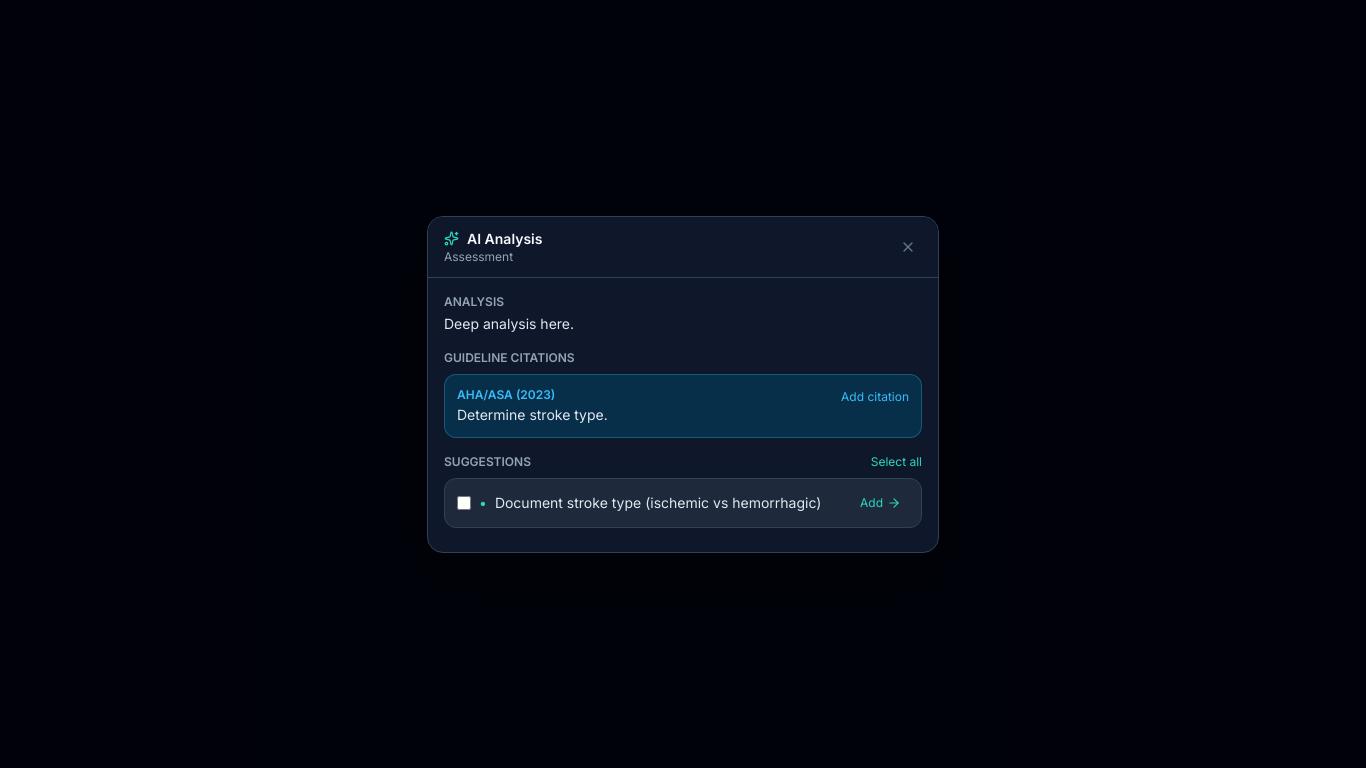
FocusedAIPanel › shows clarify overlay with question and options when ready=false
Click the button with aria-label "add to note" at (880, 502), box [852, 490, 909, 514]
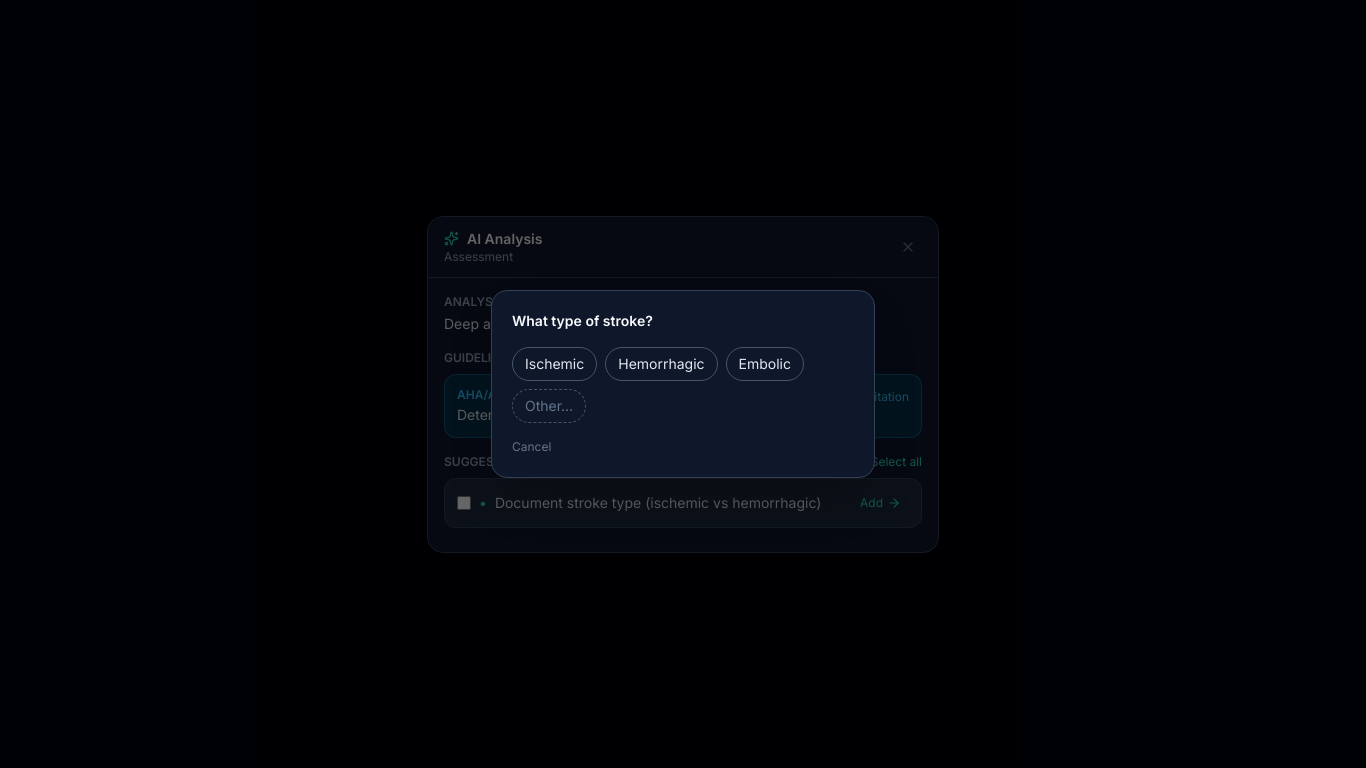
Expected: the text "What type of stroke?" is shown, [512, 312, 653, 329]
Expected: the button "Ischemic" is shown, [512, 347, 597, 381]
Expected: the button "Hemorrhagic" is shown, [605, 347, 718, 381]
